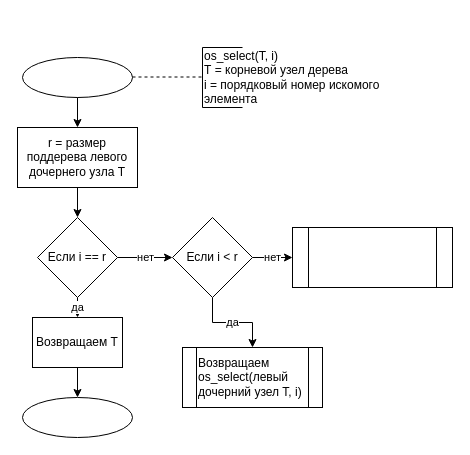
Some shapes in this 470 by 455 pixel diagram are drawn without their labels. The centre of each missing label's shape, as x and y in pixels:
Возвращаем os_select(правый дочерний узел Т, (i-r)): (x=372, y=257)
Конец: (x=77, y=417)
Начало: (x=77, y=77)
